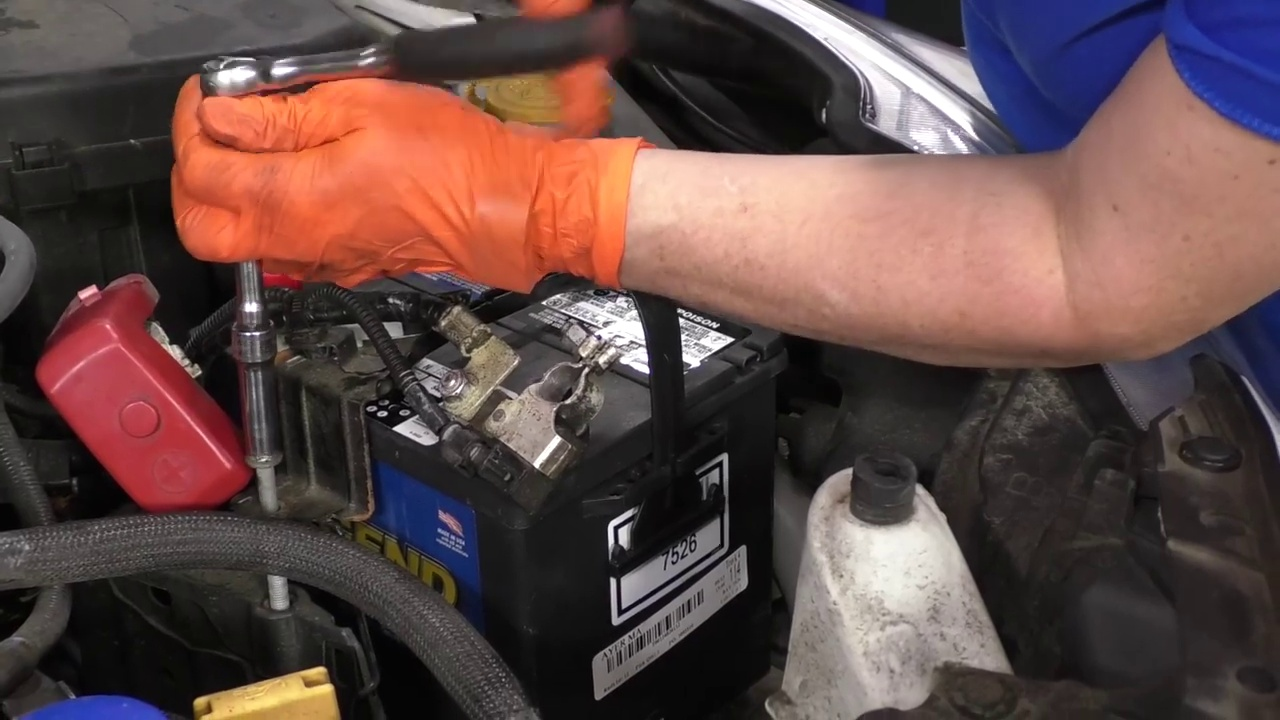battery: (231, 254, 765, 472)
